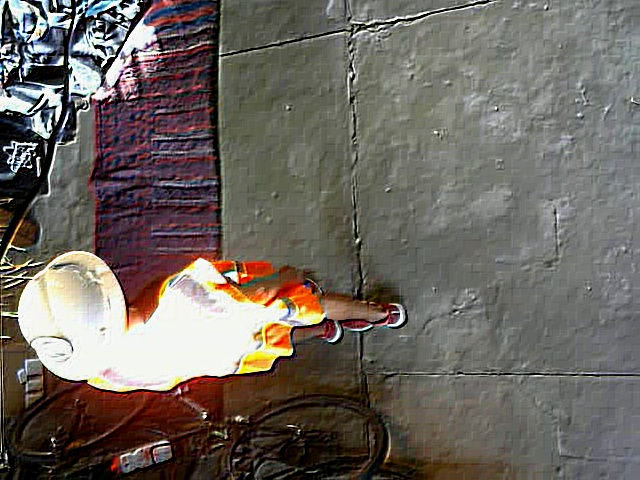two: (30, 336, 73, 363)
